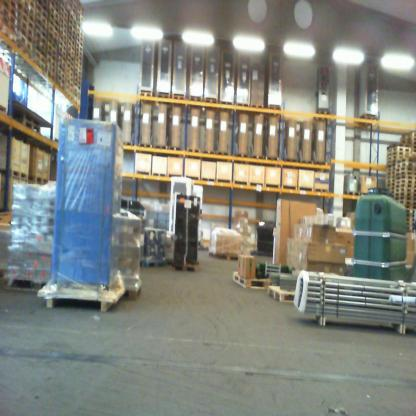pallet: (35, 275, 118, 314), (1, 265, 47, 292), (224, 269, 268, 293), (264, 280, 293, 302), (173, 258, 202, 278), (118, 277, 140, 303), (14, 121, 41, 140), (204, 244, 240, 258), (355, 110, 379, 131), (140, 254, 171, 269), (2, 166, 29, 182), (170, 89, 187, 111), (28, 172, 53, 186), (316, 108, 334, 126), (187, 93, 204, 111), (18, 113, 39, 127), (236, 98, 250, 117), (155, 88, 169, 105), (151, 168, 168, 181), (206, 93, 217, 112), (249, 152, 265, 165), (283, 154, 300, 166), (270, 103, 282, 120), (186, 146, 204, 157), (316, 185, 334, 196), (221, 99, 234, 114), (250, 105, 264, 118), (138, 88, 152, 101), (198, 148, 217, 157), (233, 151, 248, 162), (264, 154, 279, 165), (166, 144, 181, 154), (136, 140, 152, 149), (152, 141, 166, 151), (315, 160, 330, 169), (299, 158, 314, 166), (217, 150, 230, 158), (346, 188, 359, 196)
